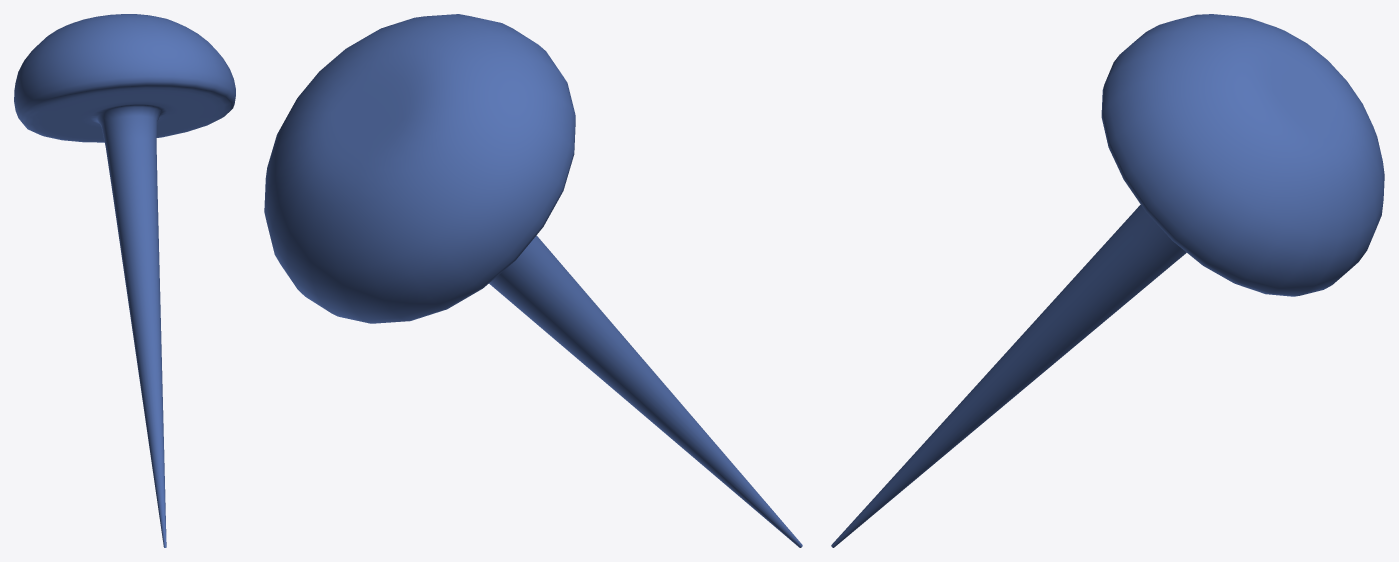
File: Screw.FBX
3 renders of one model, left to right at view 1: azimuth 30°, elevation 25°; view 2: azimuth 150°, elevation 25°; view 3: azimuth 270°, elevation 25°, orthographic. The views are drawn at different scales.
Parts seen in each view (by area): view 1: Círculo.002; view 2: Círculo.002; view 3: Círculo.002.
Part boxes in pixels (x1,y1,x2,y2): Círculo.002: (14,14,235,547); Círculo.002: (264,14,802,547); Círculo.002: (831,14,1384,547).
Bounding box in the file's own units: 21.85 × 37.26 × 43.12.
